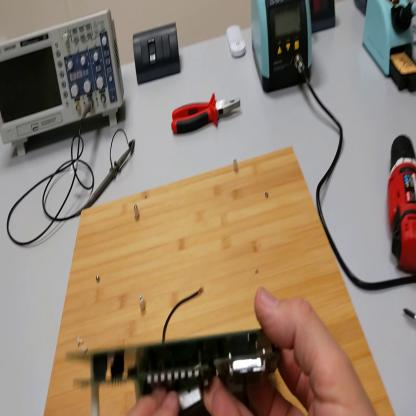electric screwdriver: (386, 131, 416, 278)
hand: (206, 284, 375, 415), (130, 386, 181, 415)
low voltage board: (67, 319, 283, 388)
oscilloscope: (2, 8, 129, 156)
pliers: (171, 92, 240, 135)
socket: (311, 1, 339, 36), (356, 1, 368, 18)
welder base: (363, 1, 416, 97)
welder probe tip: (402, 2, 416, 23)
welder station: (251, 2, 314, 97)
working area: (44, 148, 397, 416)
